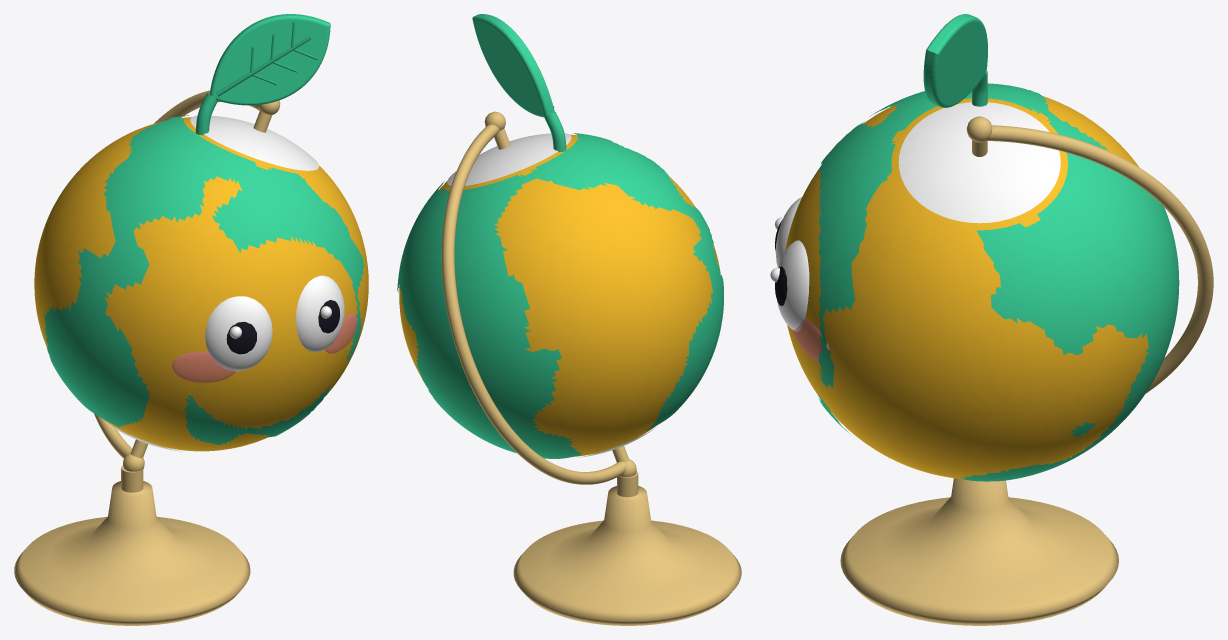
Rendered from lab-irc-terra.glb.
3 renders of one model, left to right at view 1: azimuth 30°, elevation 25°; view 2: azimuth 150°, elevation 25°; view 3: azimuth 270°, elevation 25°, orthographic. The views are drawn at different scales.
Visible parts, largest first — view 1: globo, continenti, piedistallo, foglia_lamina, occhio_sx_bianco, calotta_nord, occhio_dx_bianco, guancia_sx, meridiano, occhio_sx_pupilla, guancia_dx, picciolo (+2 smaller); view 2: globo, continenti, piedistallo, meridiano, foglia_lamina, calotta_nord, picciolo; view 3: globo, continenti, piedistallo, calotta_nord, meridiano, foglia_lamina, occhio_dx_bianco, guancia_dx, occhio_sx_bianco.
Part boxes in pixels (bbox=[...]): globo: bbox=[34, 117, 368, 451]; continenti: bbox=[44, 115, 364, 444]; piedistallo: bbox=[14, 481, 250, 625]; foglia_lamina: bbox=[209, 14, 330, 105]; occhio_sx_bianco: bbox=[205, 296, 272, 371]; calotta_nord: bbox=[190, 115, 319, 170]; occhio_dx_bianco: bbox=[295, 275, 344, 352]; guancia_sx: bbox=[172, 351, 235, 382]; meridiano: bbox=[94, 90, 259, 458]; occhio_sx_pupilla: bbox=[226, 322, 256, 354]; guancia_dx: bbox=[325, 313, 357, 353]; picciolo: bbox=[195, 93, 217, 135]; globo: bbox=[399, 134, 720, 456]; continenti: bbox=[397, 133, 723, 458]; piedistallo: bbox=[513, 486, 741, 625]; meridiano: bbox=[441, 124, 625, 484]; foglia_lamina: bbox=[472, 14, 554, 117]; calotta_nord: bbox=[447, 133, 571, 185]; picciolo: bbox=[544, 111, 566, 152]; globo: bbox=[785, 96, 1148, 478]; continenti: bbox=[818, 83, 1179, 481]; piedistallo: bbox=[840, 478, 1118, 625]; calotta_nord: bbox=[898, 102, 1060, 223]; meridiano: bbox=[986, 125, 1213, 393]; foglia_lamina: bbox=[923, 14, 987, 107]; occhio_dx_bianco: bbox=[776, 240, 809, 331]; guancia_dx: bbox=[792, 318, 829, 360]; occhio_sx_bianco: bbox=[775, 197, 801, 267].
Size of the model in its own units: 0.3277 by 0.531 by 0.3374.
